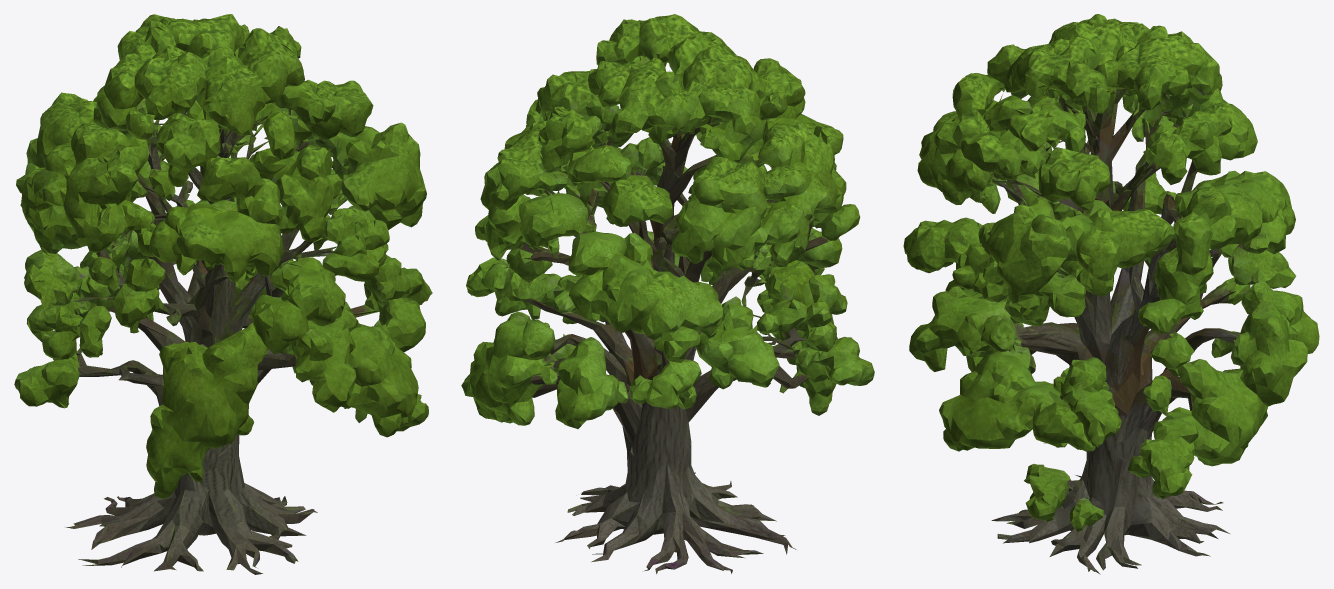
File: oak.glb
3 views of the same model, side by side, from view 1: azimuth 30°, elevation 25°; view 2: azimuth 150°, elevation 25°; view 3: azimuth 270°, elevation 25° (orthographic). The views are drawn at different scales.
Bounding box in the file's own units: 1.63 × 1.89 × 1.43.
1 material, 1 textured.
